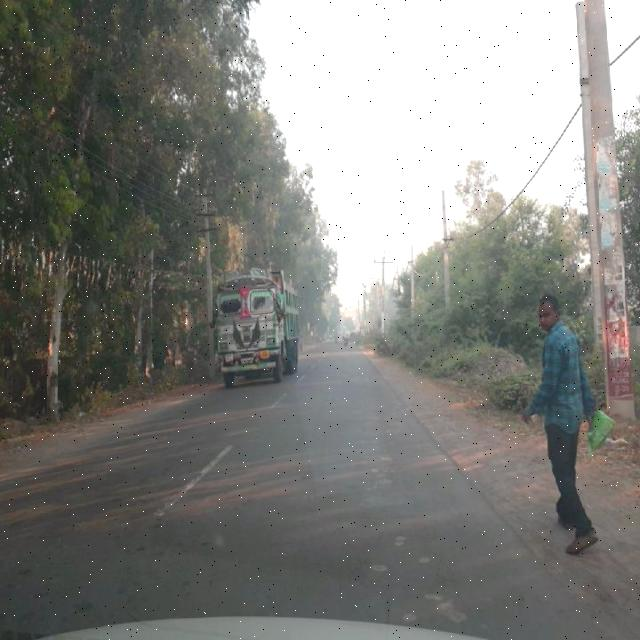D44: (153, 441, 235, 520)
